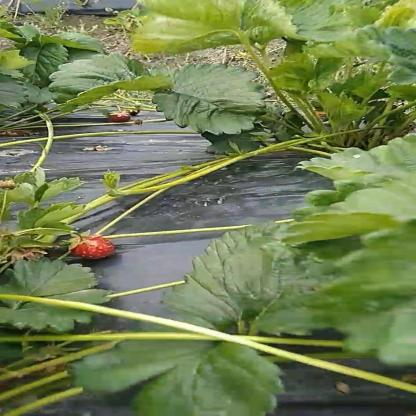ripe: (71, 237, 124, 261), (108, 111, 132, 122)
